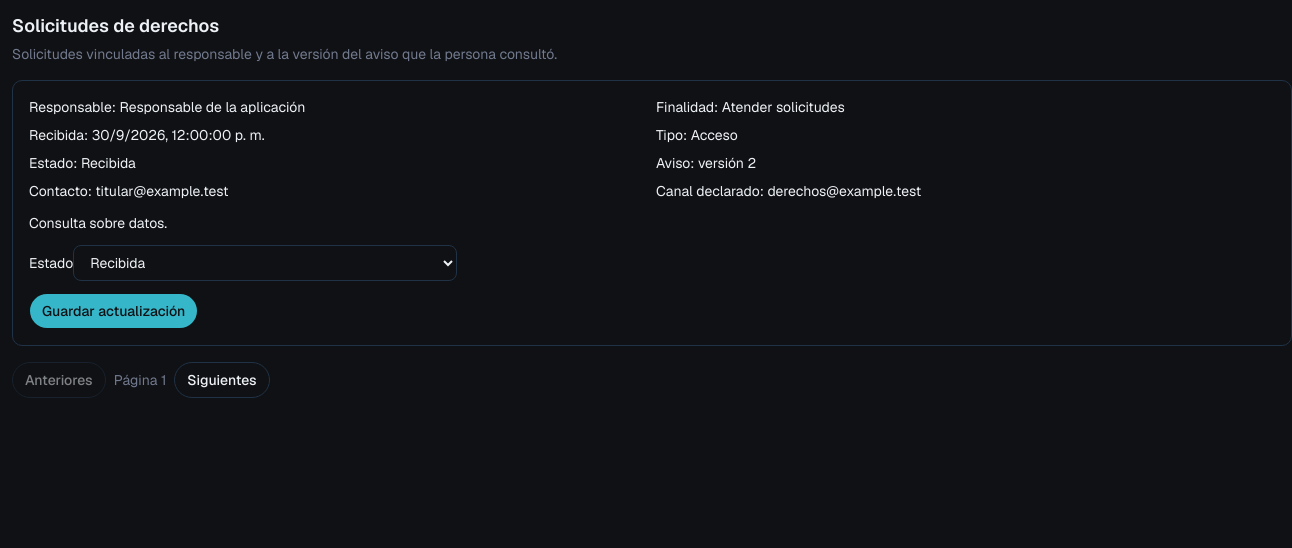
US-156 privacy rights request management › lets an administrator answer and records the response
This screenshot has width=1292, height=548.
Expected: the text "Contacto: titular@example.test" is shown, 29,182 -> 229,200
Select "Respondida" in the dropdown labelled "Estado" at (265, 263), box 73,245 -> 457,281
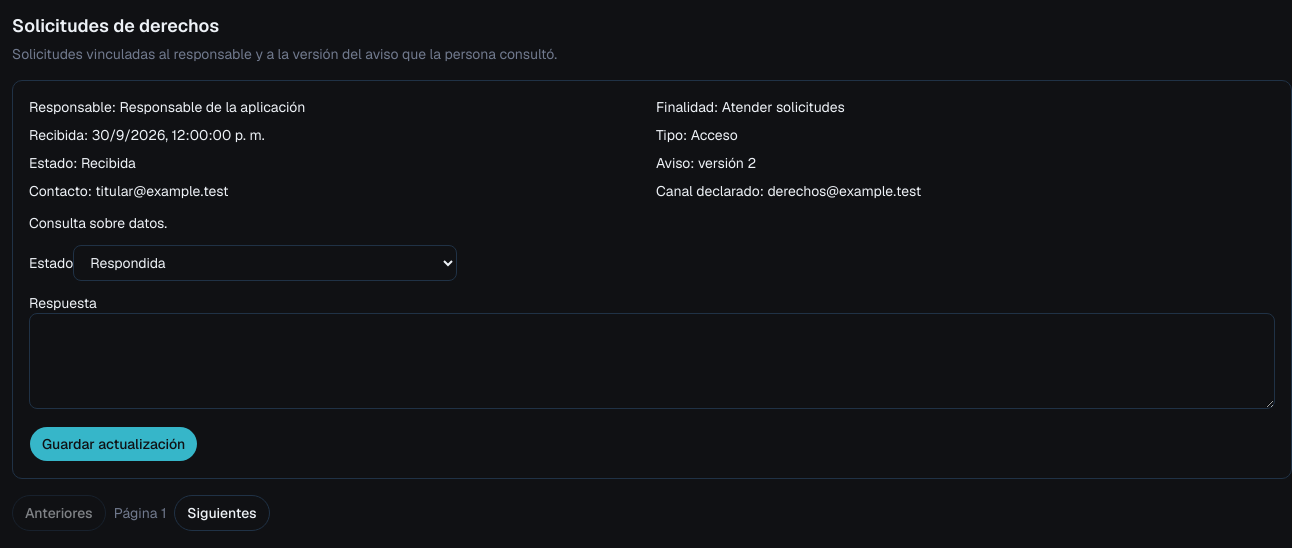
Type "Revisa el mensaje enviado por el responsable." into the text box labelled "Respuesta" at (652, 361), box 29,313 -> 1275,409
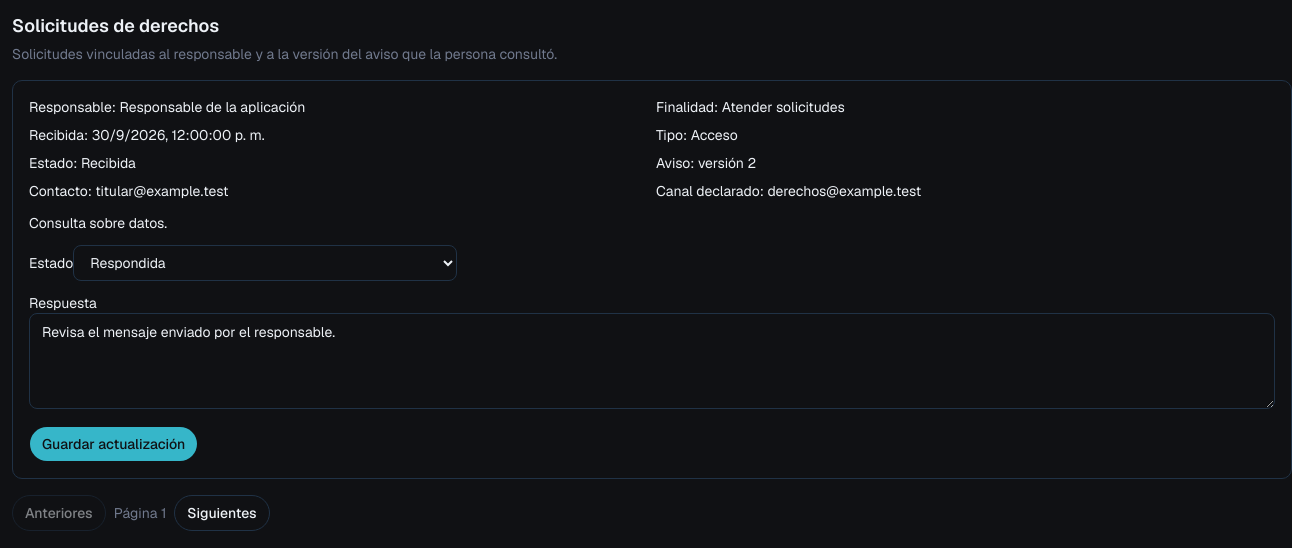
Click the button "Guardar actualización" at (114, 444), box 29,426 -> 198,462
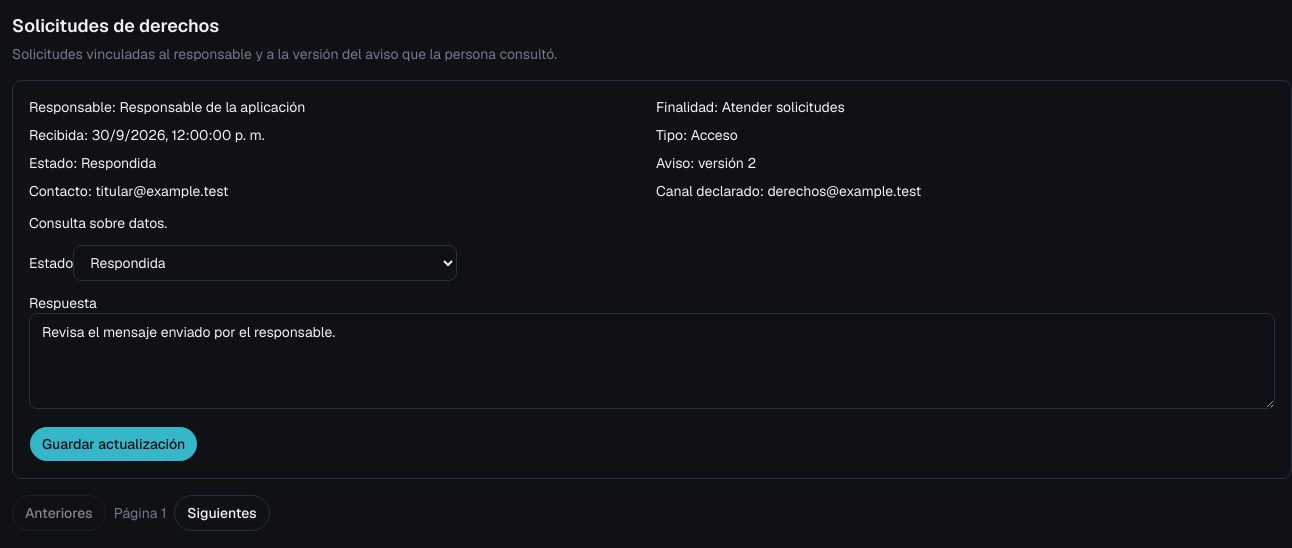
Expected: the text "Estado: Respondida" is shown, 29,154 -> 156,172
Click the button "Siguientes" at (222, 513), box 174,495 -> 270,531
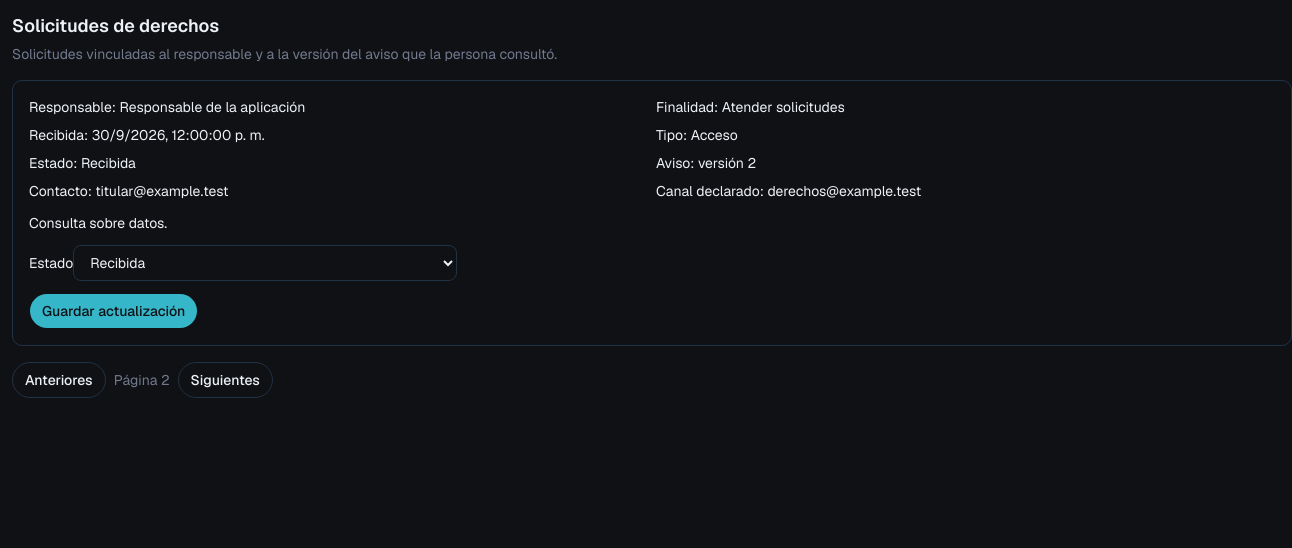
Expected: the text "Página 2" is shown, 114,370 -> 170,390
